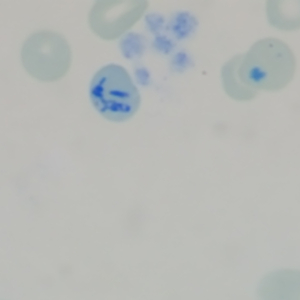aggregate reticulocyte: (87, 63, 144, 125)
erythrocyte: (235, 36, 297, 94), (18, 30, 74, 84), (219, 52, 267, 102)
